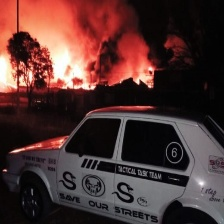fire: (1, 50, 90, 89)
smoke: (78, 6, 165, 82)
